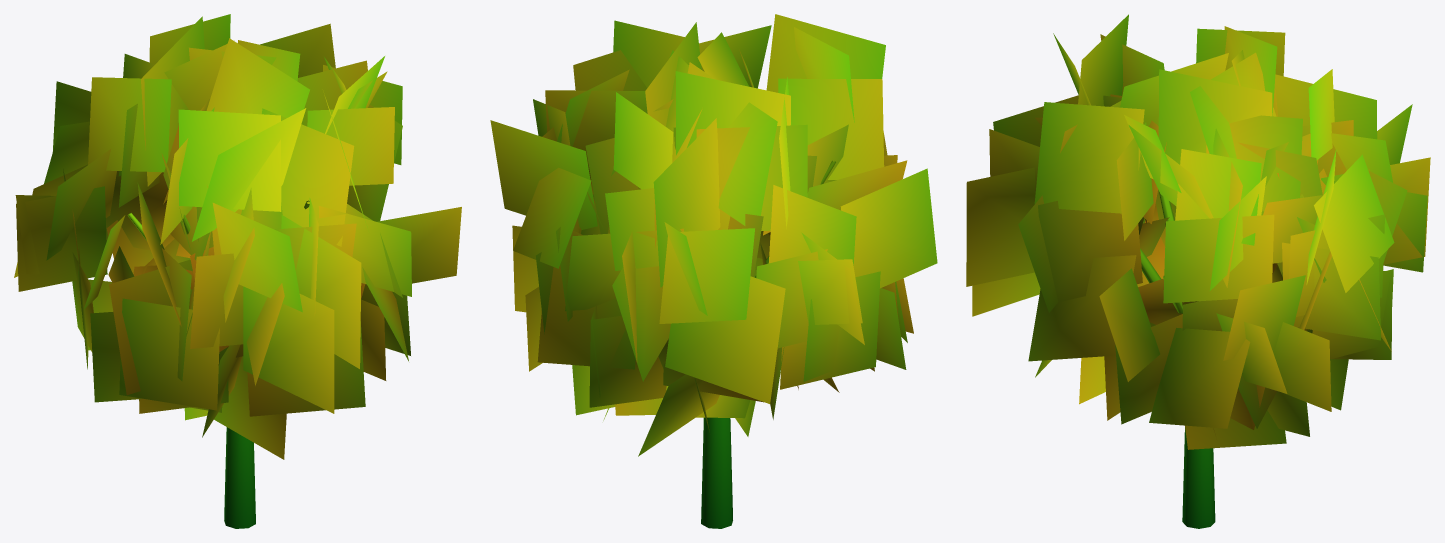
The model's file is SM_Broadleaf_A.fbx.
3 renders of one model, left to right at view 1: azimuth 30°, elevation 25°; view 2: azimuth 150°, elevation 25°; view 3: azimuth 270°, elevation 25°, orthographic.
Parts seen in each view (by area): view 1: SM_Broadleaf_A; view 2: SM_Broadleaf_A; view 3: SM_Broadleaf_A.
Boxes of the visible parts, x1,y1,x2,y2 form: SM_Broadleaf_A: (14, 14, 461, 528); SM_Broadleaf_A: (490, 14, 937, 528); SM_Broadleaf_A: (966, 14, 1430, 528).
Bounding box in the file's own units: 1082 × 1181 × 1336.
